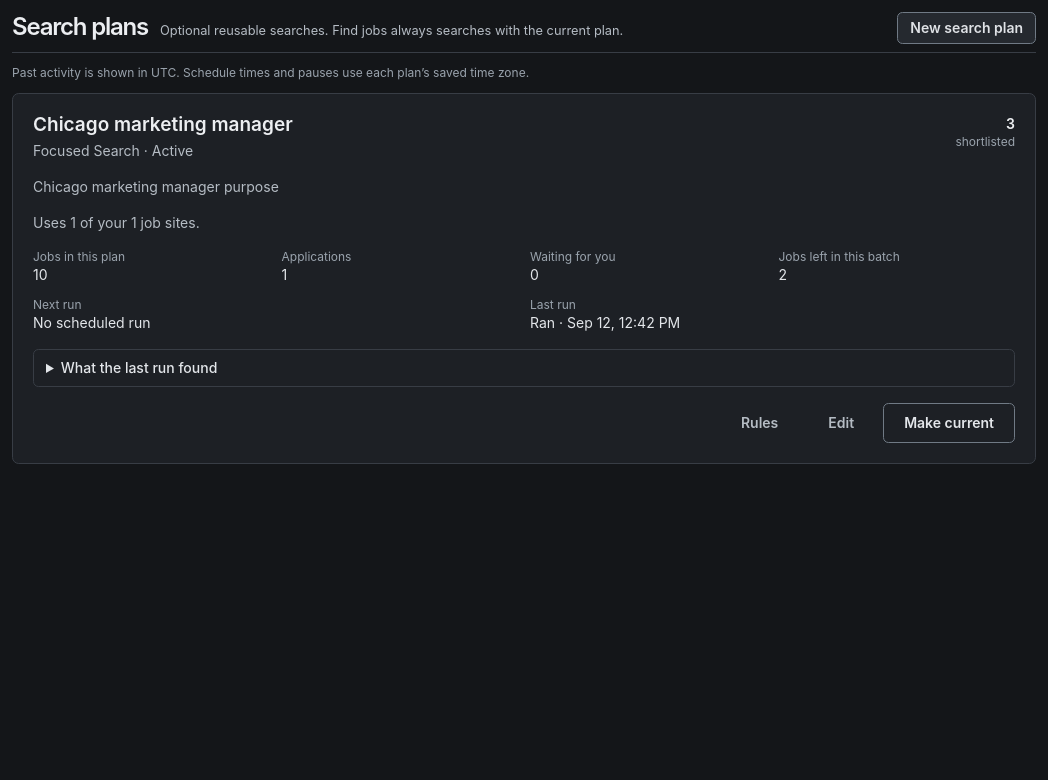
a finished run reports one set of numbers › prints the run's own counts on a plan the screen holds no run record for
Click the heading "What the last run found" at (139, 367), box [61, 359, 217, 376]
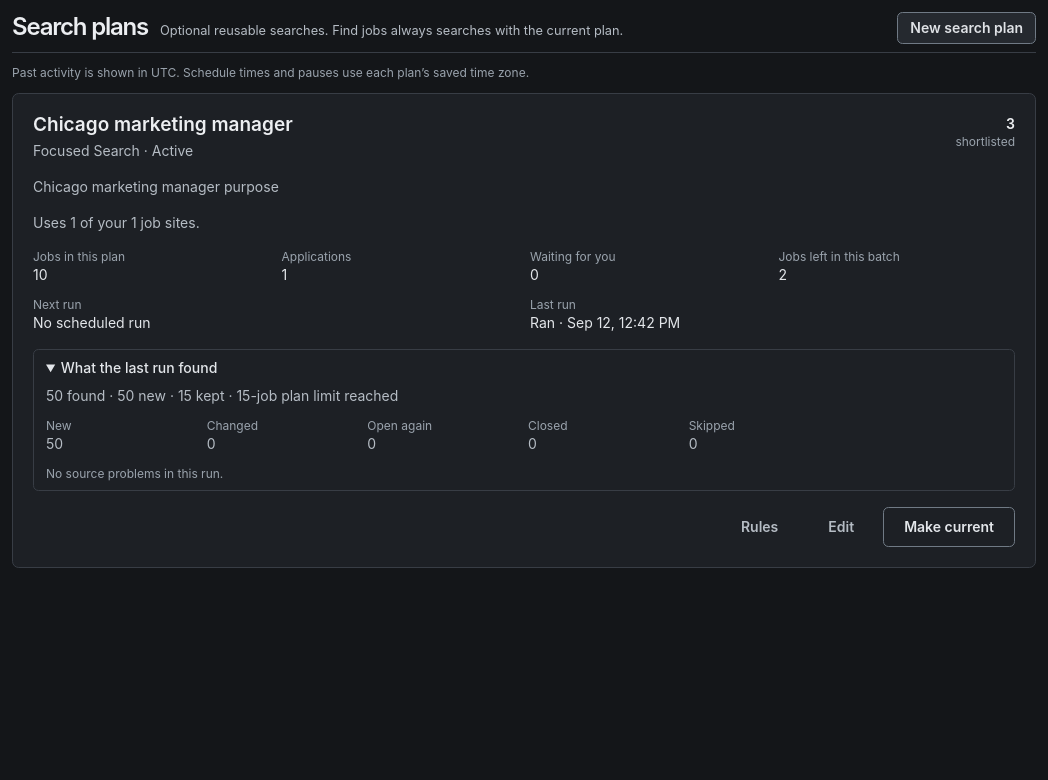
Expected: the text "50 found · 50 new · 15 kept · 15-job plan limit reached" is shown, [46, 387, 398, 404]
